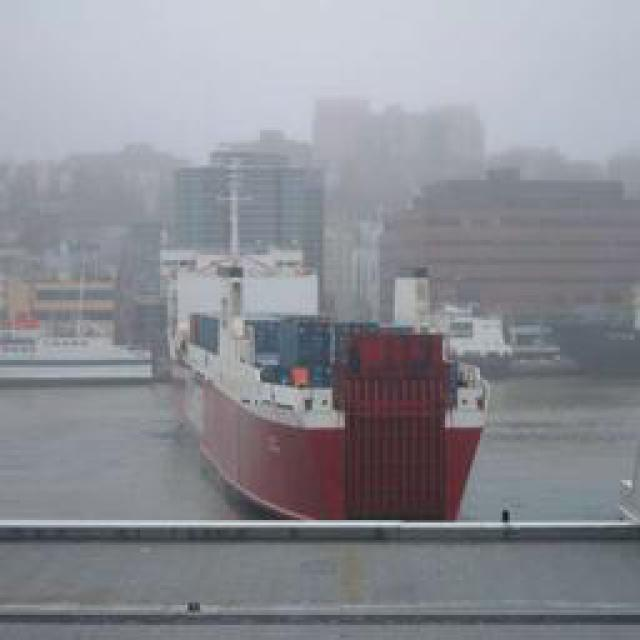Ship: (177, 244, 495, 524)
